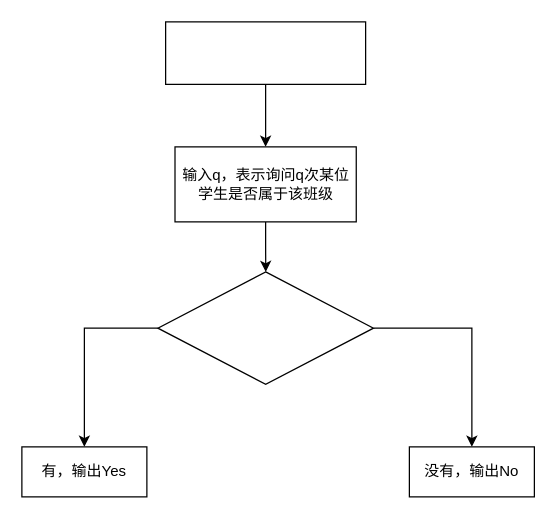
Image size: 556x519. Some labels were removed from this diagram. Each missing label, with the centre of its shape:
"使用for循环对比学生库 中是否有询问的人" goes at point (265, 327).
"创建班级学生库，string数组 （这里创建了20个人）" goes at point (265, 52).
